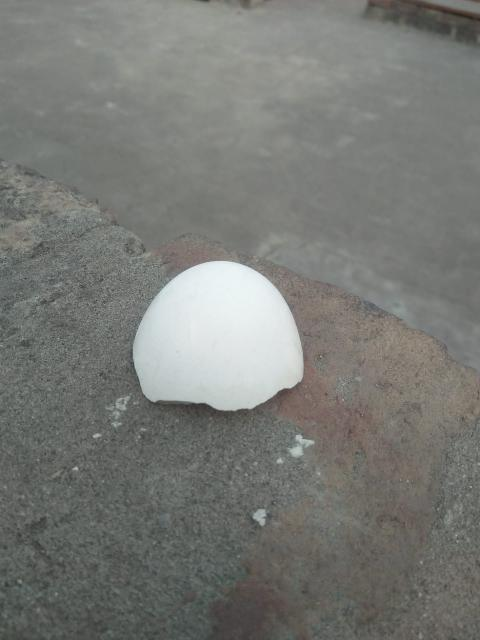Roto: (131, 259, 304, 412)
